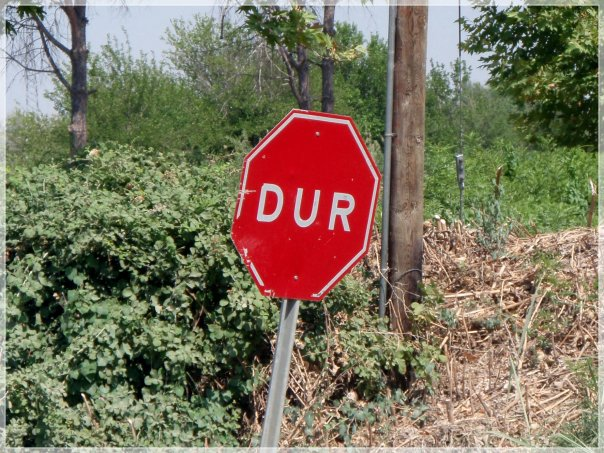dur: (232, 103, 383, 319)
